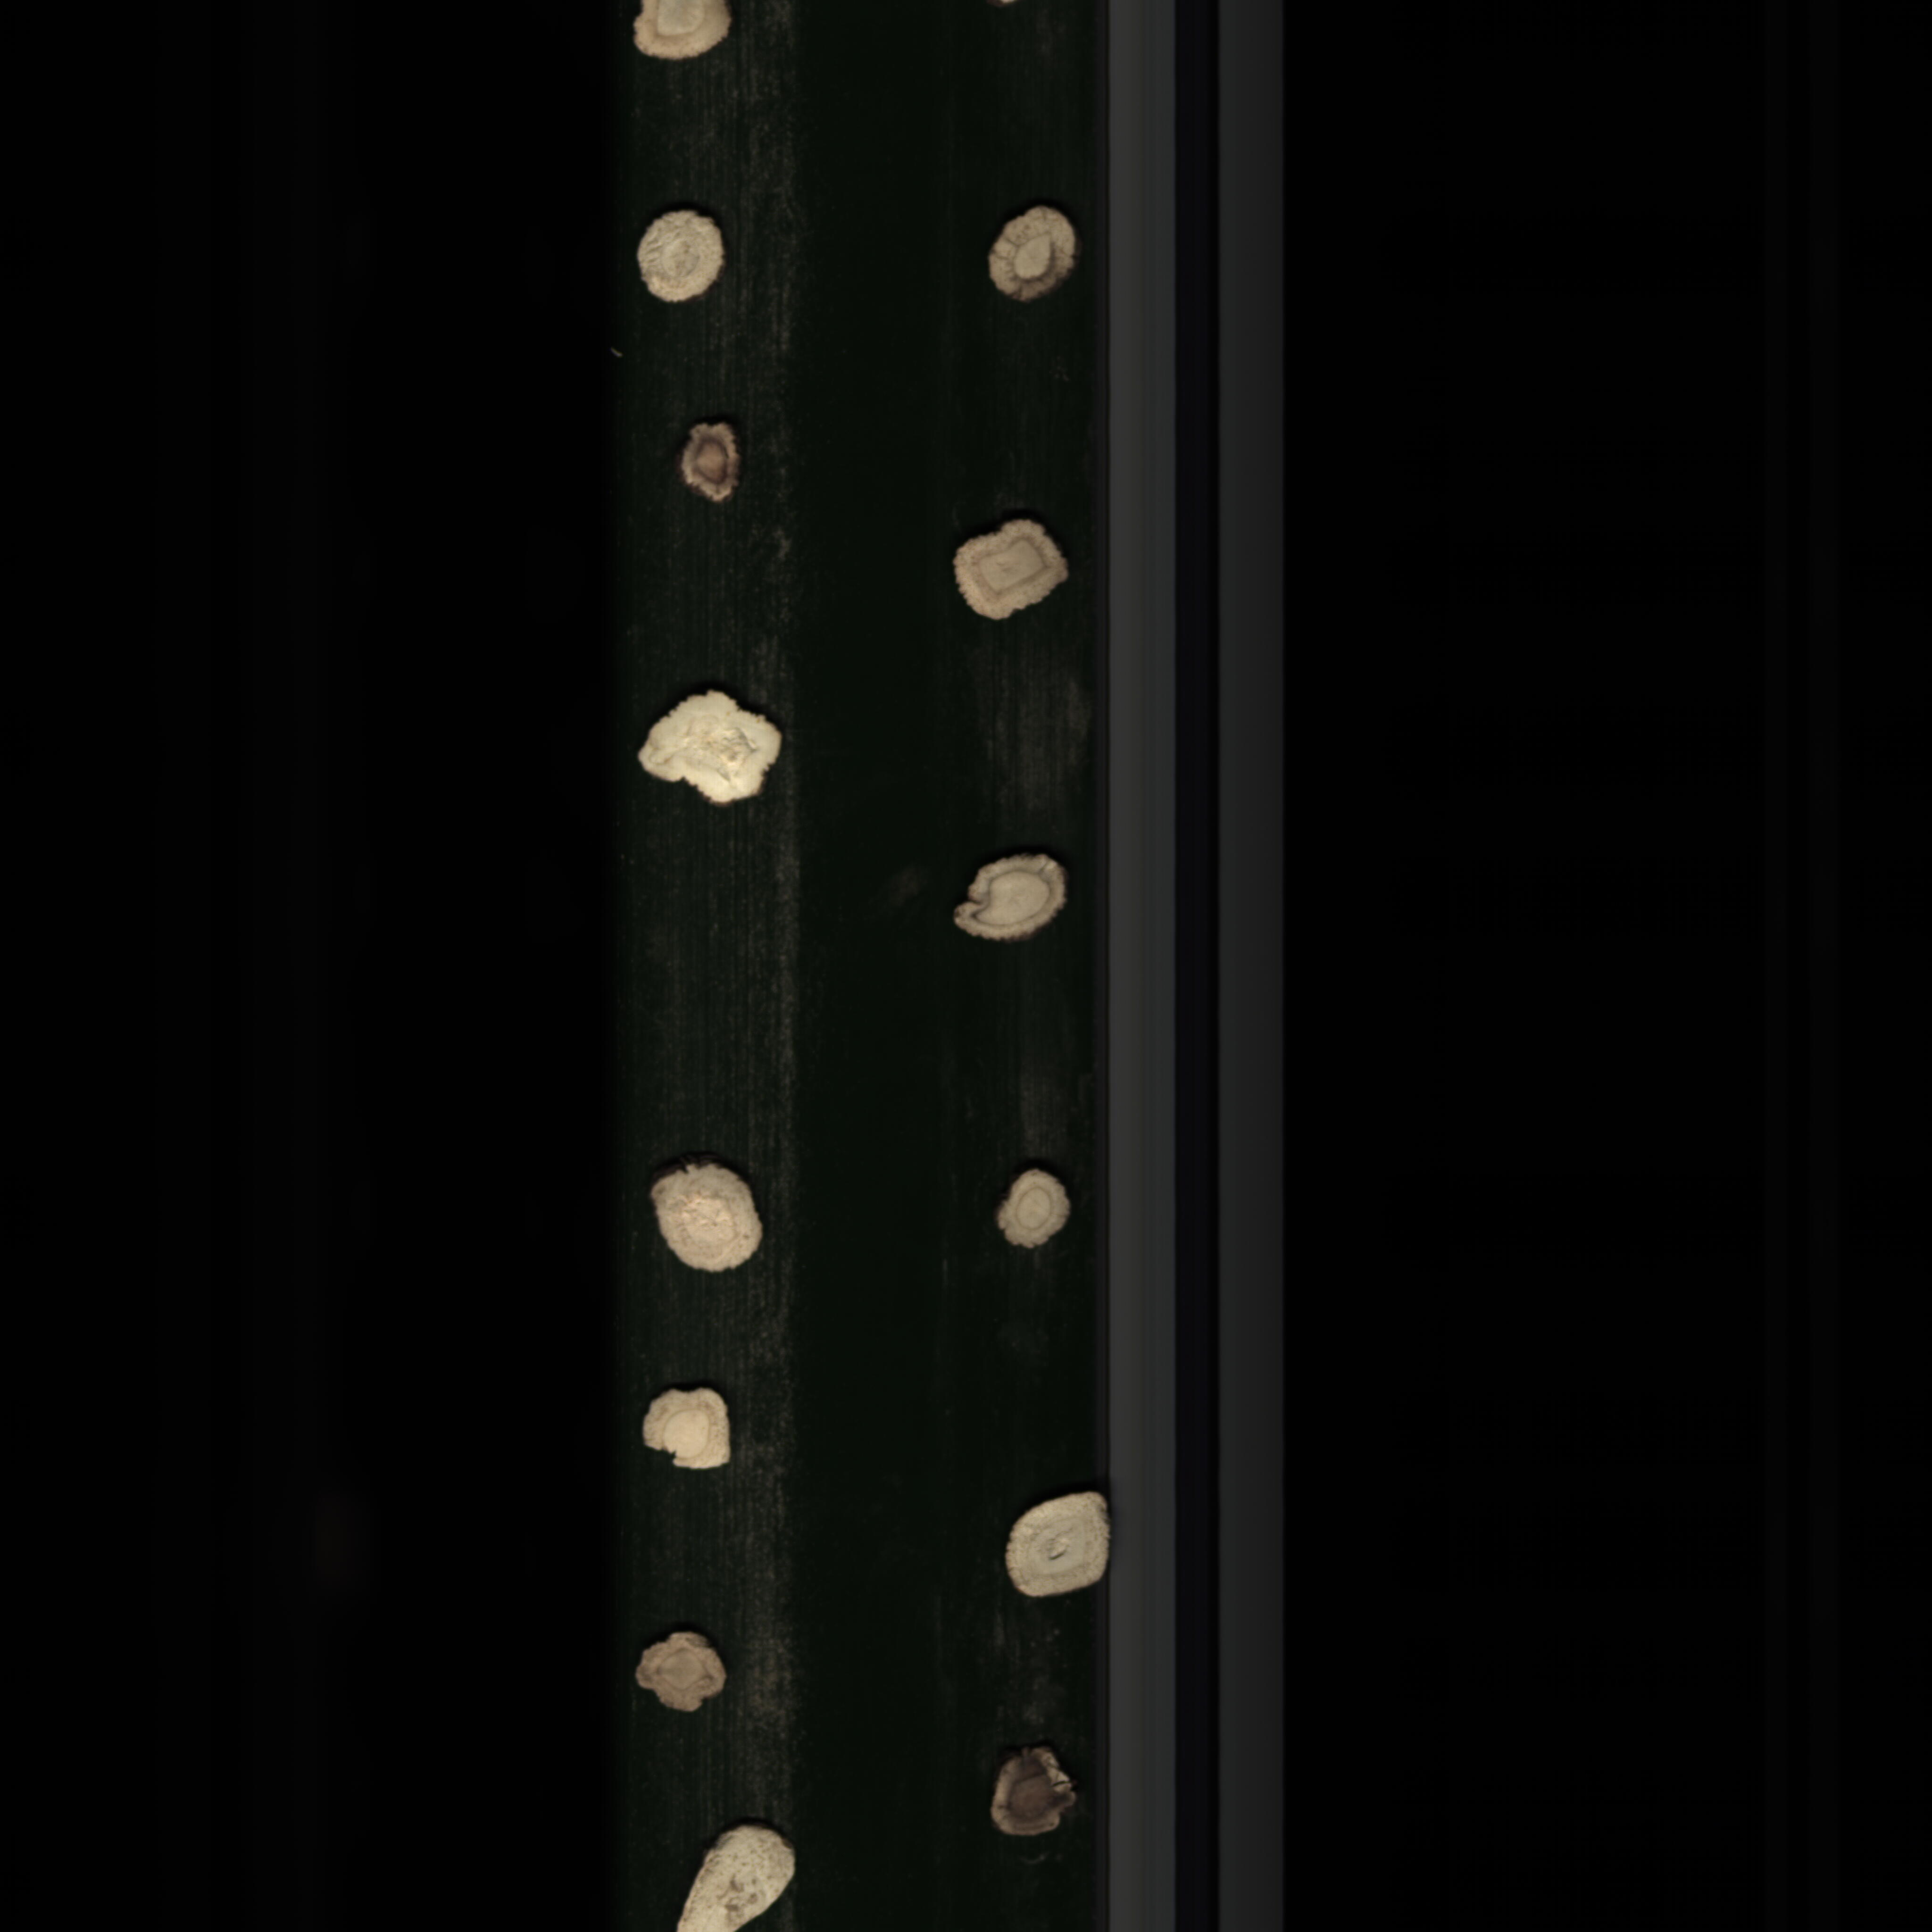debris: (640, 1376, 748, 1493)
distortion: (628, 678, 789, 823), (626, 1619, 740, 1725)
moldy: (978, 1737, 1088, 1849), (665, 410, 752, 513)
